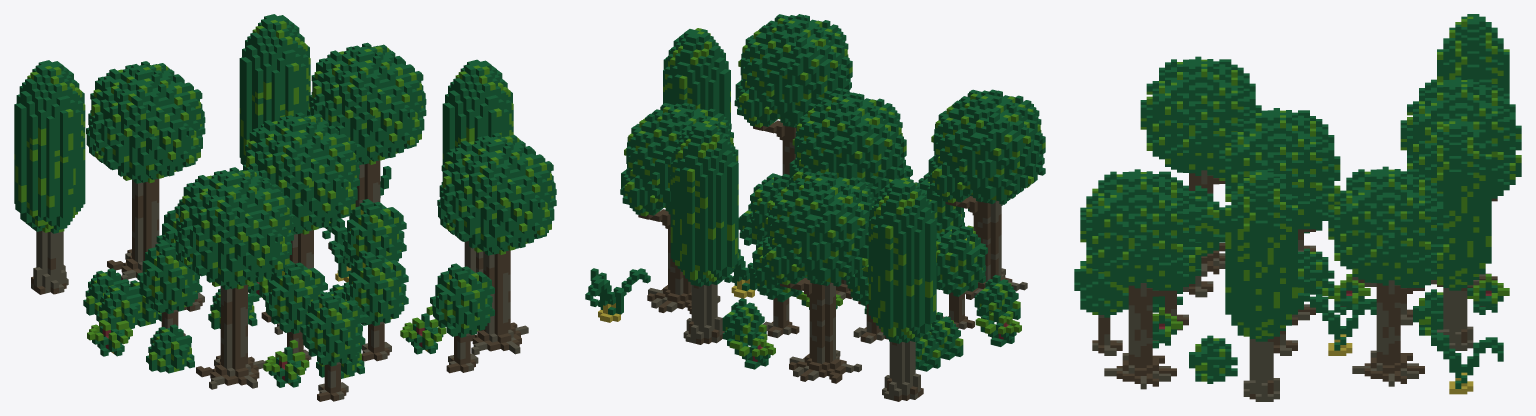
The model's file is trees_1_overtile.obj.
3 views of the same model, side by side, from view 1: azimuth 30°, elevation 25°; view 2: azimuth 150°, elevation 25°; view 3: azimuth 270°, elevation 25° (orthographic). The views are drawn at different scales.
Size of the model in its own units: 7.5 by 4 by 7.4.
1 material, 1 textured.
